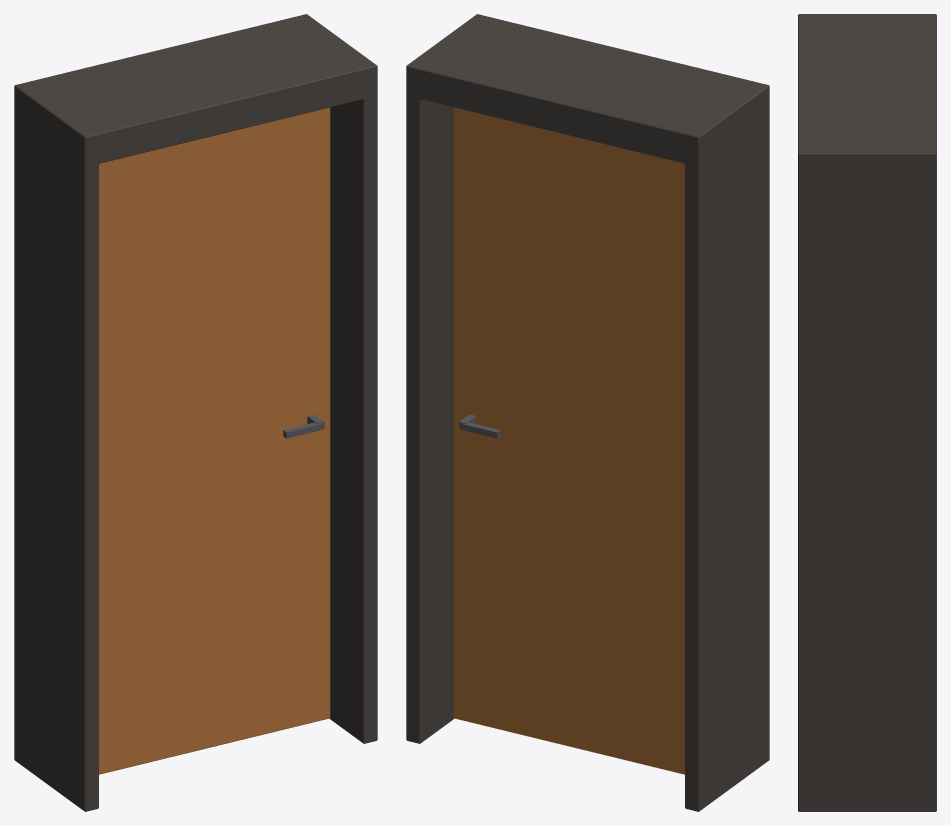
The model's file is arch_door_single_t40.glb.
3 views of the same model, side by side, from view 1: azimuth 30°, elevation 25°; view 2: azimuth 150°, elevation 25°; view 3: azimuth 270°, elevation 25° (orthographic). The views are drawn at different scales.
Visible parts, largest first — view 1: LeafMesh, Frame; view 2: LeafMesh, Frame; view 3: Frame.
Boxes of the visible parts, x1,y1,x2,y2 form: LeafMesh: (99,107,330,774); Frame: (14,14,377,811); LeafMesh: (453,107,684,774); Frame: (406,14,769,811); Frame: (798,14,936,811).
Size of what is drawn, in the model's own units: 1 by 2.2 by 0.42.
